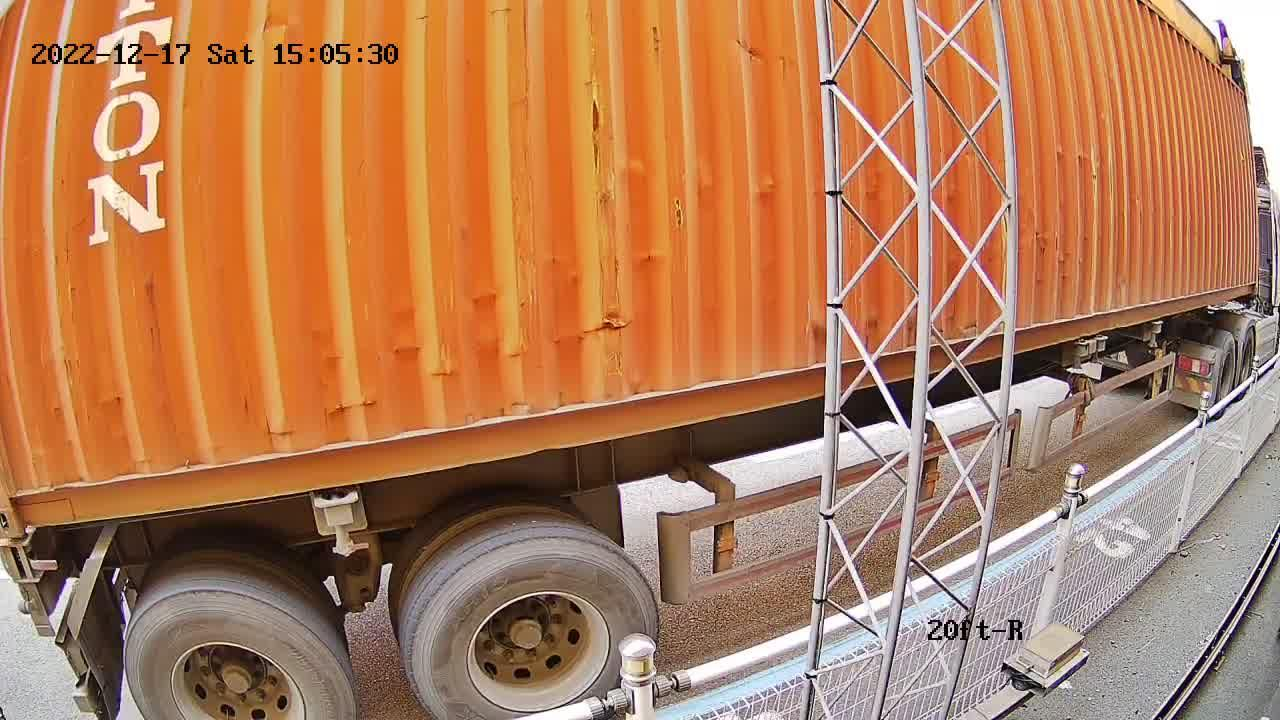Cone: (1, 539, 49, 585)
Hole_L: (1, 445, 80, 532)
Tire: (408, 536, 660, 719), (126, 591, 353, 719)
